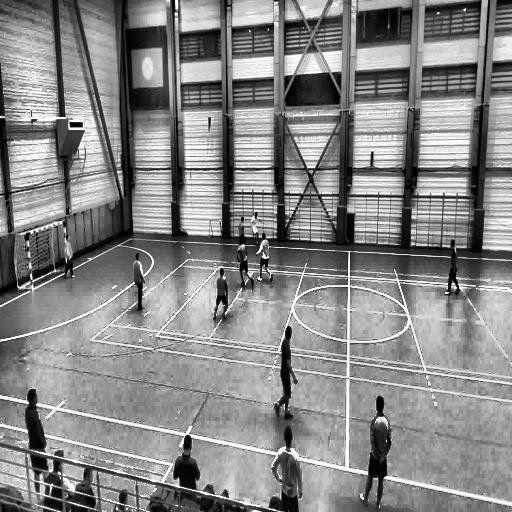player: (357, 394, 391, 511), (25, 390, 48, 503), (272, 426, 302, 512), (270, 317, 296, 415), (237, 239, 255, 289), (255, 234, 273, 283), (213, 268, 229, 322), (445, 240, 459, 296), (133, 253, 144, 311), (62, 234, 75, 278), (238, 214, 246, 248), (251, 212, 259, 244)
